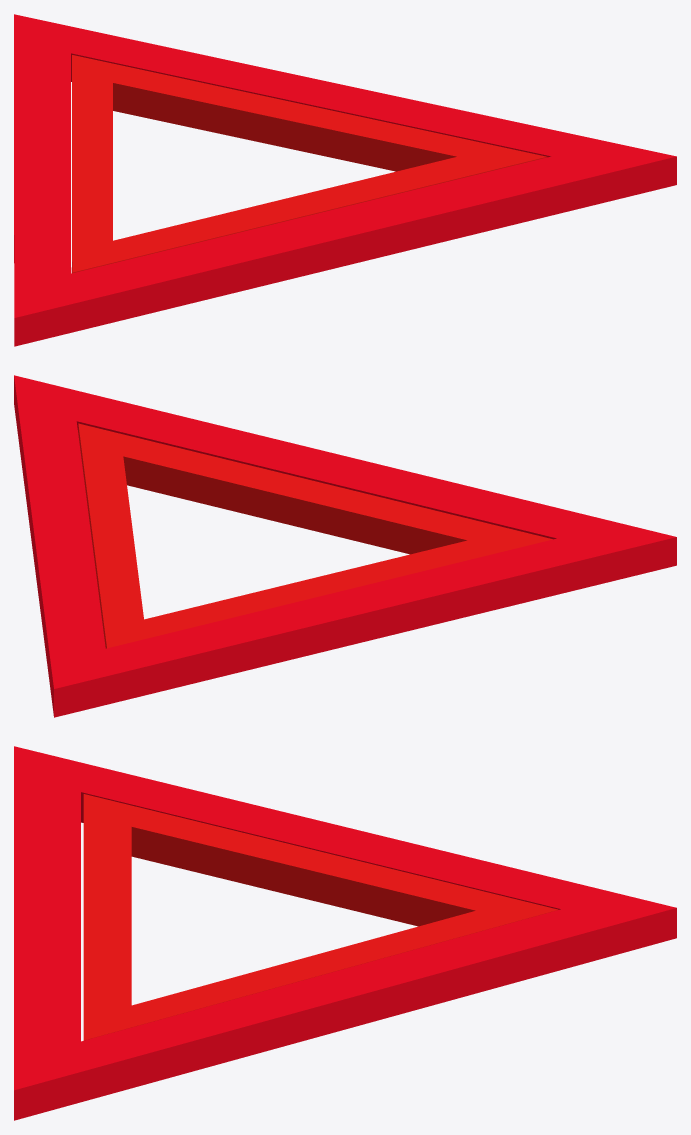
The model's file is Warning Triangle.FBX.
The picture shows the model from 3 angles, top to bottom: view 1: azimuth 30°, elevation 25°; view 2: azimuth 150°, elevation 25°; view 3: azimuth 270°, elevation 25°; orthographic projection. The views are drawn at different scales.
Parts seen in each view (by area): view 1: Prism001, Prism002; view 2: Prism001, Prism002; view 3: Prism001, Prism002.
Boxes of the visible parts, bbox=[...] form: Prism001: bbox=[14, 14, 676, 346]; Prism002: bbox=[72, 55, 547, 273]; Prism001: bbox=[14, 375, 676, 717]; Prism002: bbox=[78, 423, 552, 648]; Prism001: bbox=[14, 746, 676, 1120]; Prism002: bbox=[83, 794, 558, 1040].
Size of the model in its own units: 48.58 by 2 by 39.55.
